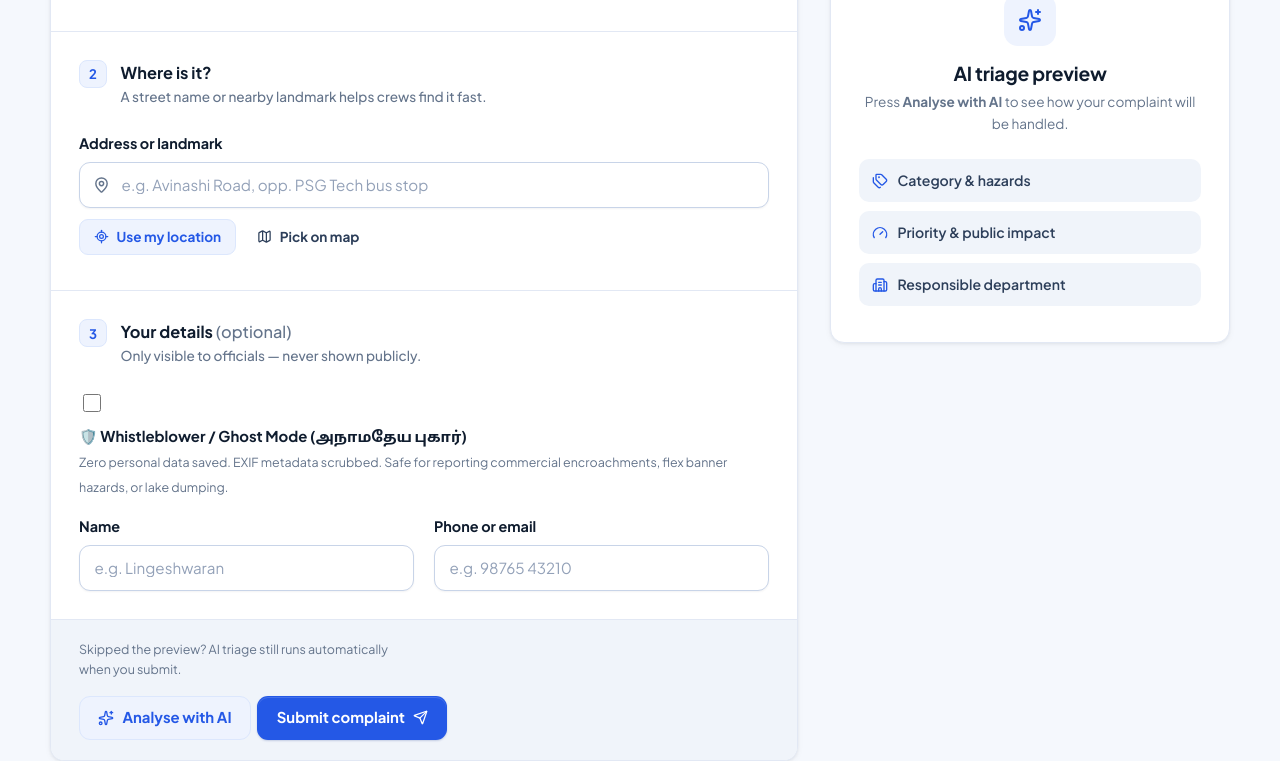
it: ReportPage › shows inline errors and focuses the first invalid field
(page scrolled)
Click the button "Analyse with AI".
click(165, 718)  # box [79,696,251,740]
(page scrolled)
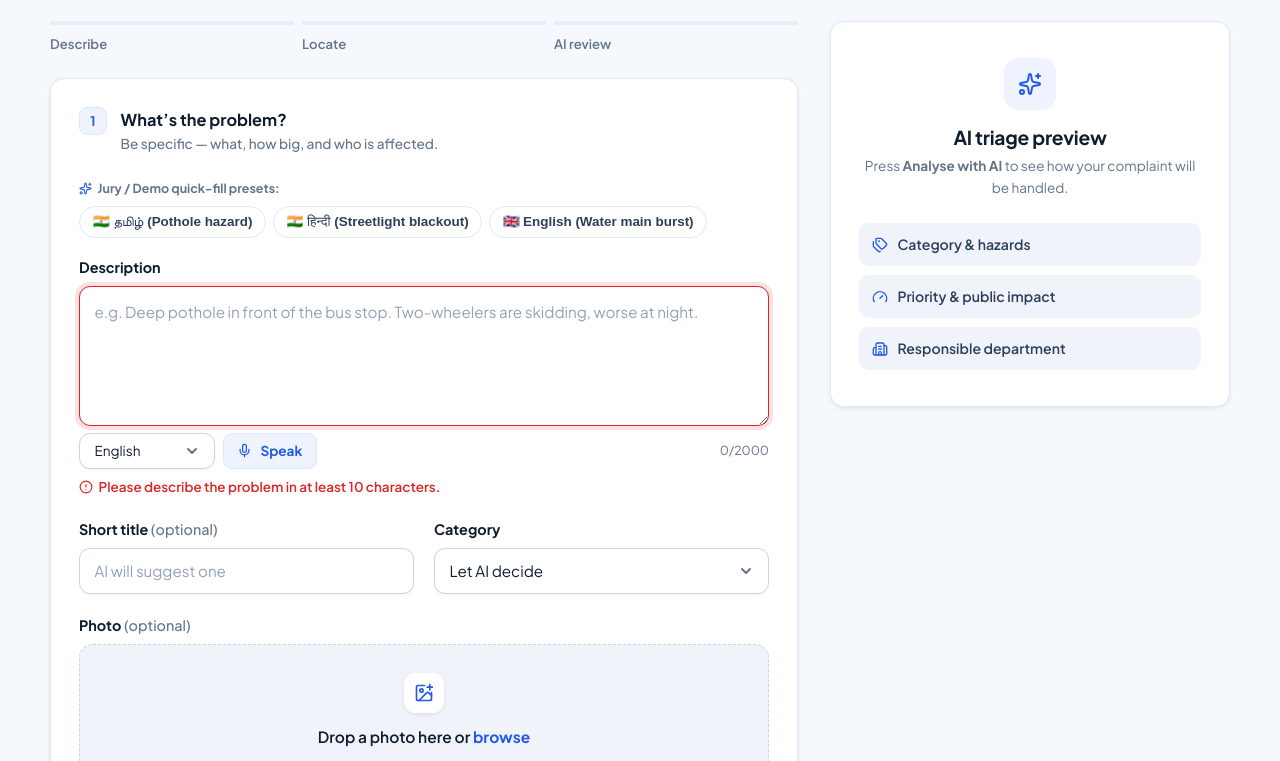
Expected: the text "Please describe the problem in at least 10 characters." is shown, [79,478,440,495]
